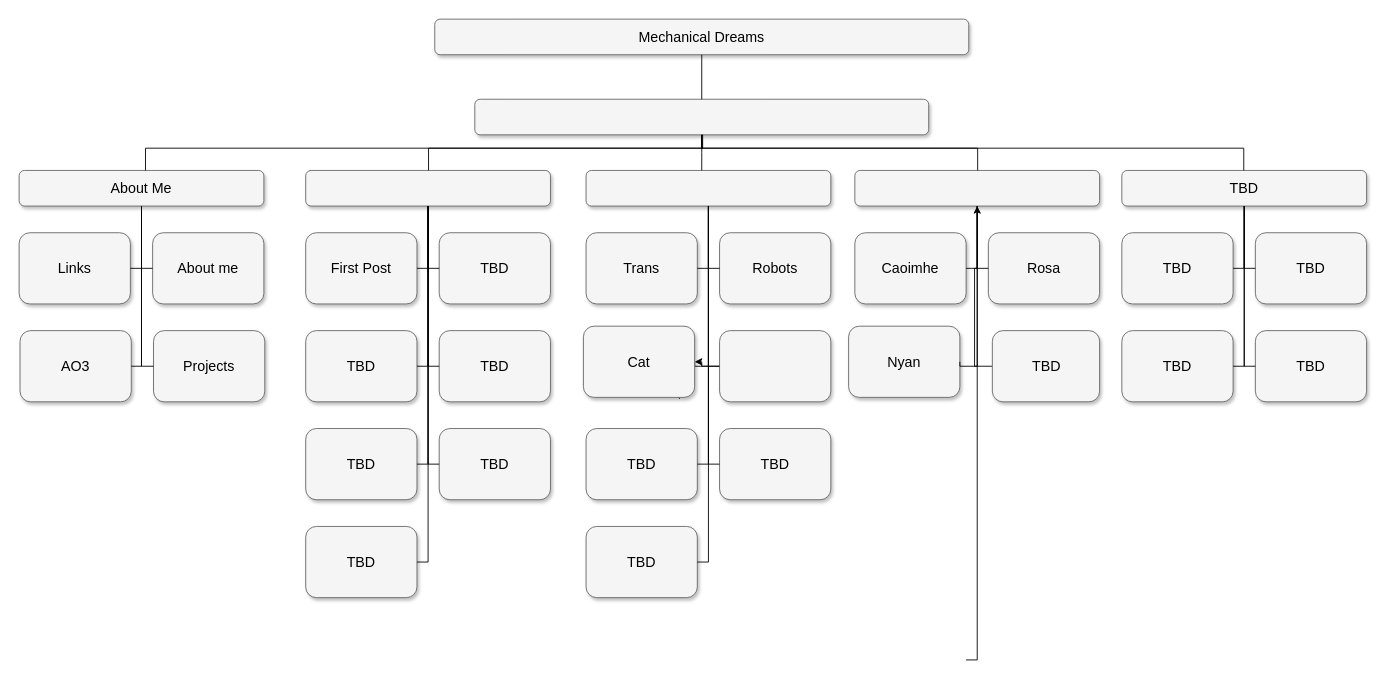
Image size: 1388x676. Some labels were removed from this diagram. The shapes that lost their labels are listed below. From the top down, each one's centre as x and y in pixels, then its label:
At (x=702, y=118): "Sections".
At (x=428, y=189): "Blog".
At (x=709, y=189): "Button Bin".
At (x=977, y=189): "Cool People".
At (x=775, y=367): "Dorothy".
